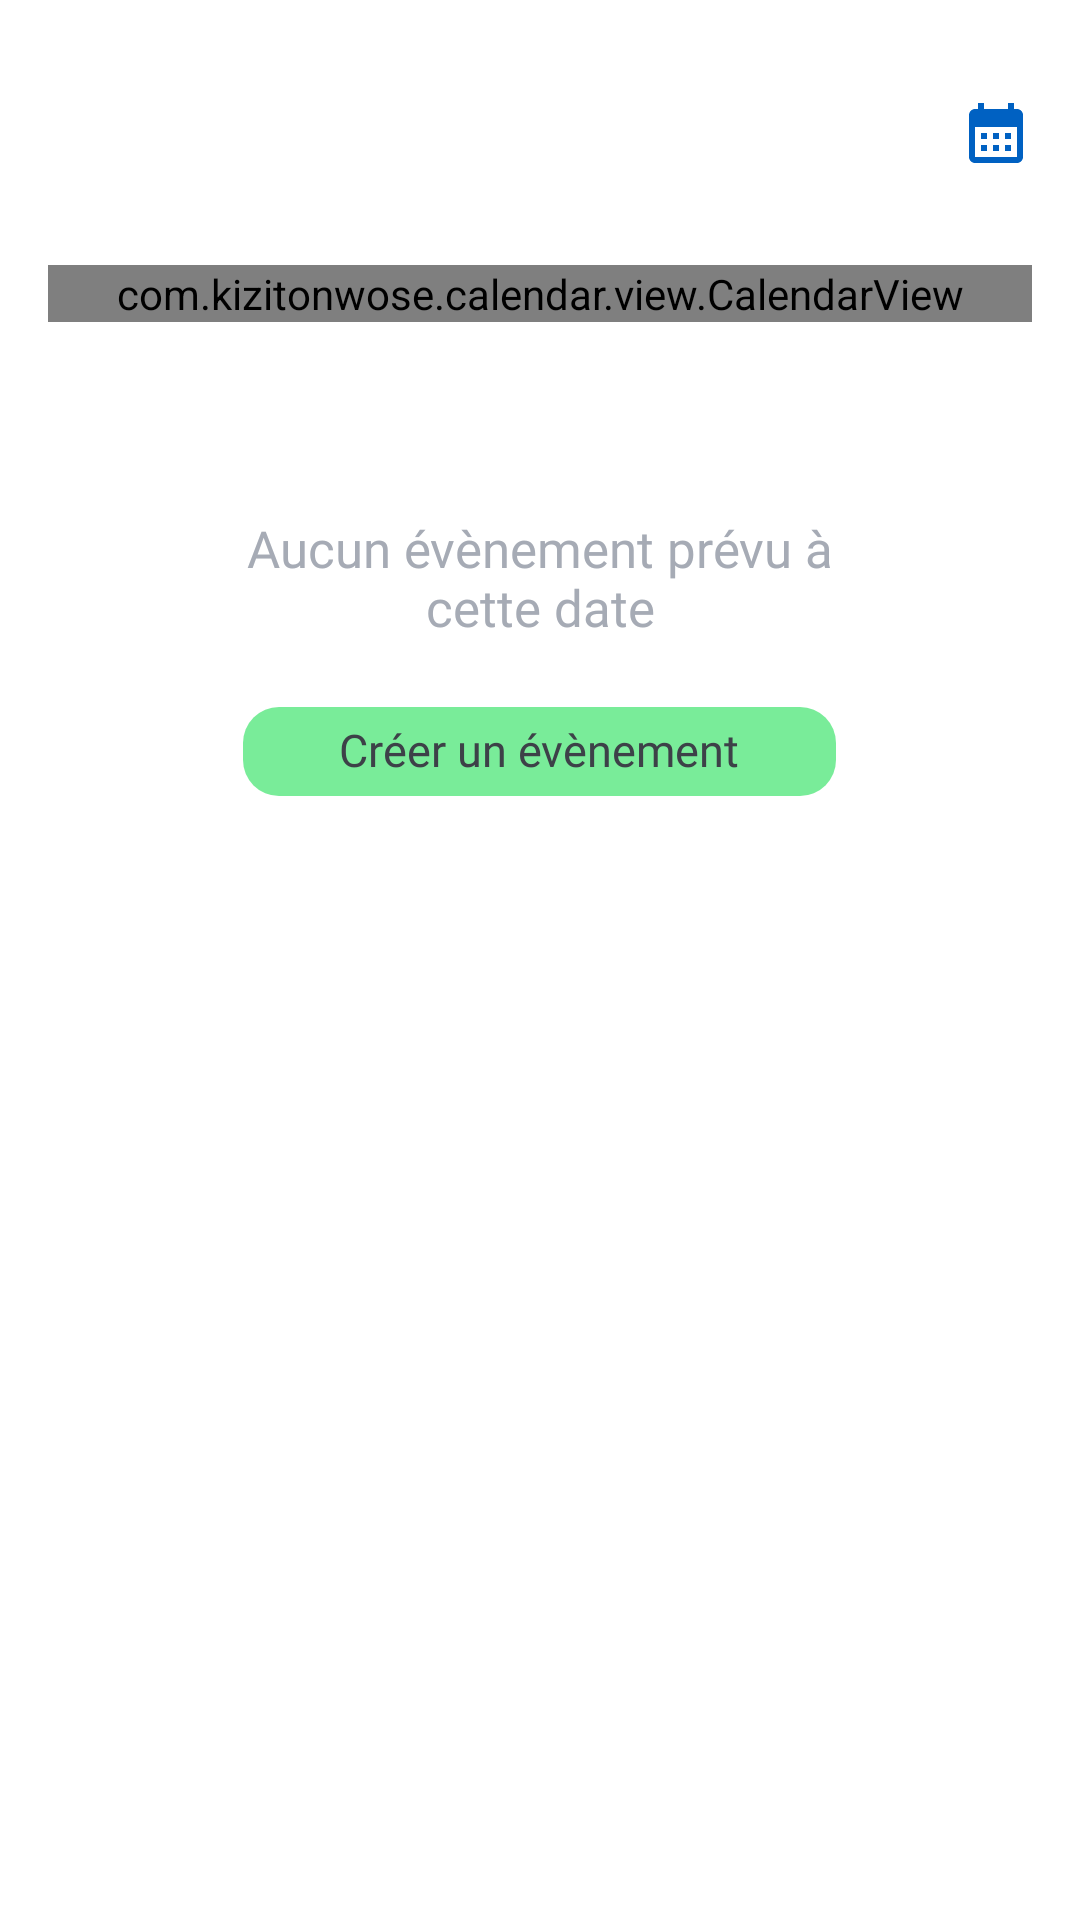

Icons on this 1080px x 1920px Android screen, each with its box as region(x1, y1, x2, y2):
calendar month: region(969, 103, 1023, 163)
